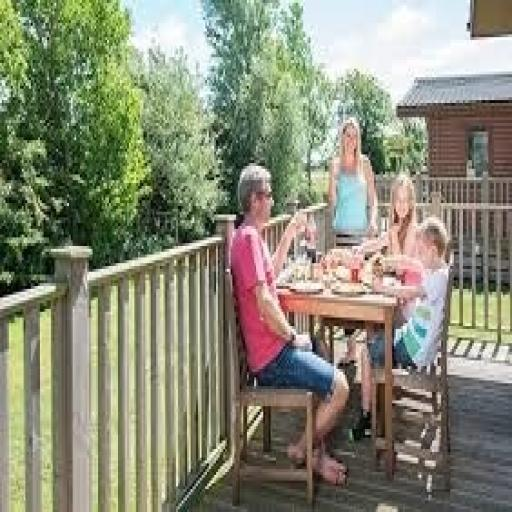sitting: (223, 114, 456, 486), (227, 160, 350, 486)
